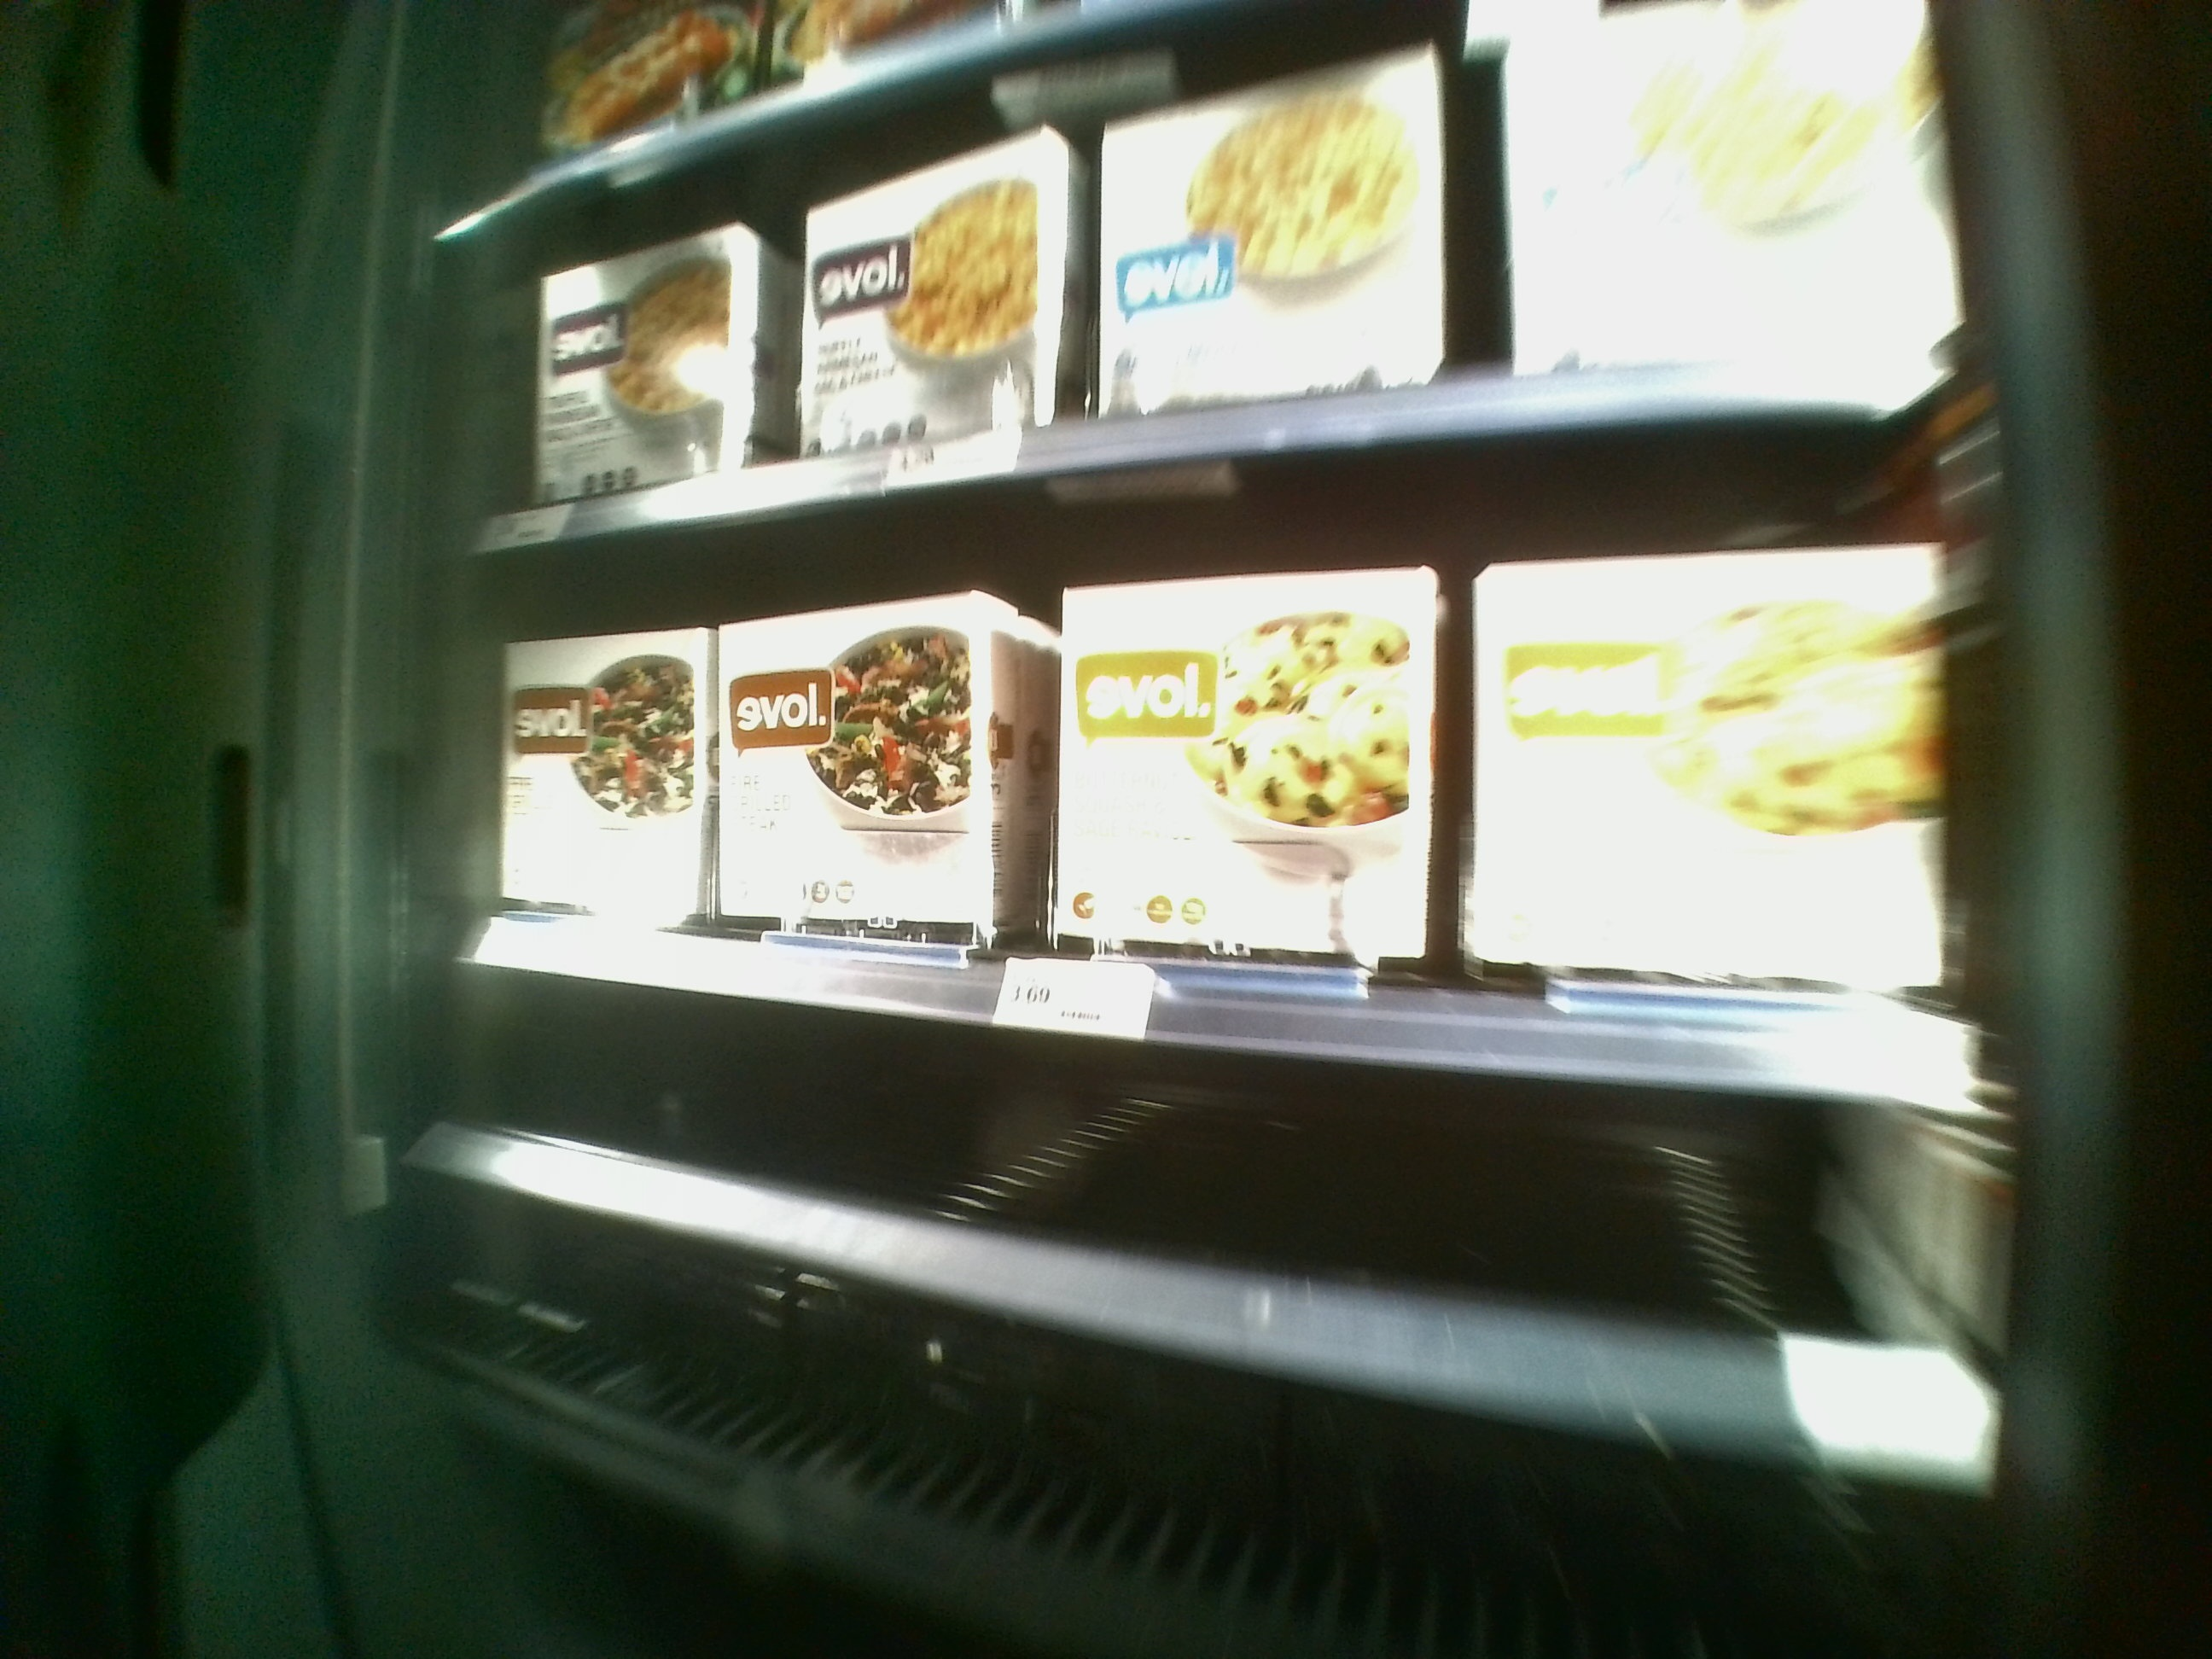shelf: (446, 502, 1979, 1291), (434, 66, 2000, 498)
